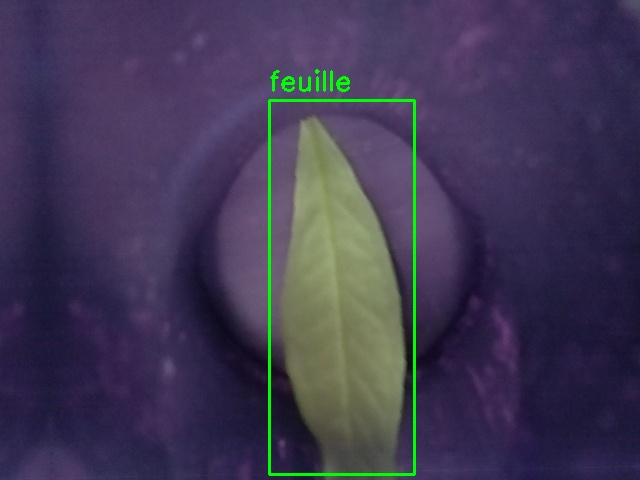feuille: (269, 100, 414, 474)
